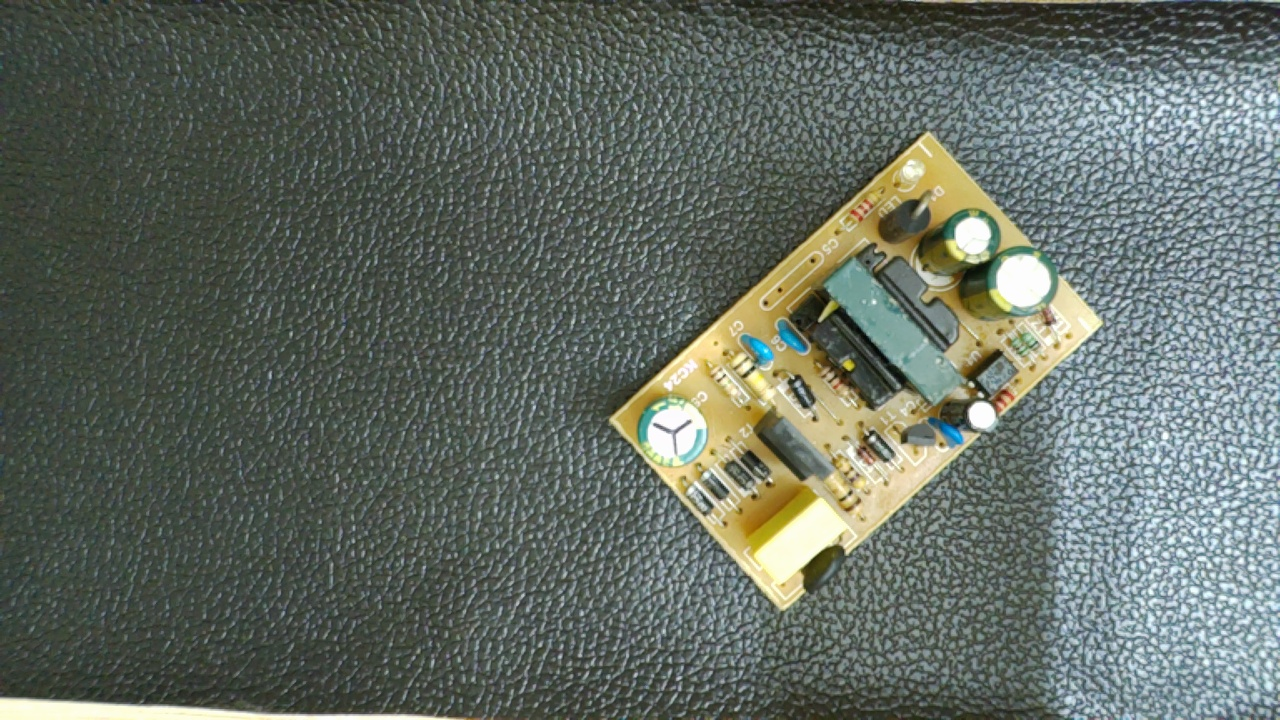fuse: (797, 536, 857, 599)
hv_capacitor: (633, 387, 711, 470)
optocoupler: (963, 347, 1022, 404)
